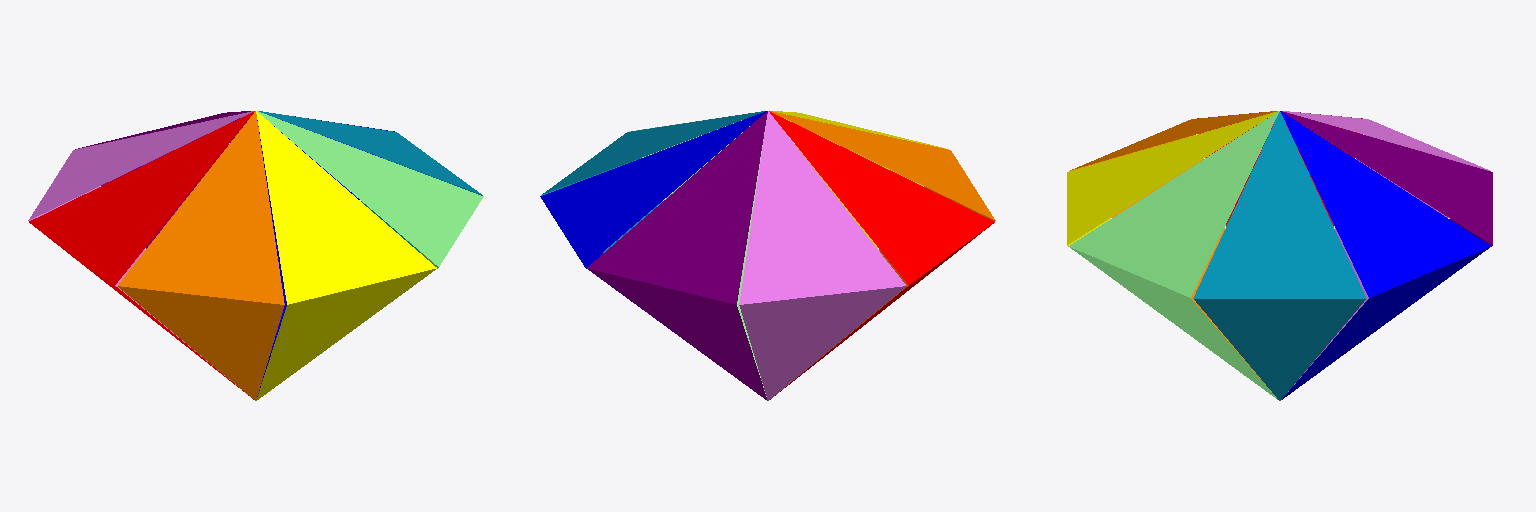
3 renders of one model, left to right at view 1: azimuth 30°, elevation 25°; view 2: azimuth 150°, elevation 25°; view 3: azimuth 270°, elevation 25°, orthographic.
Visible parts, largest first — view 1: Circle.012, Circle.009, Circle.010, Circle.011, Circle.008, Circle.002, Circle.013, Circle.016, Circle.005; view 2: Circle.013, Circle.014, Circle.010, Circle.015, Circle.007, Circle.001, Circle.012, Circle.016, Circle.005; view 3: Circle.016, Circle.011, Circle.015, Circle.003, Circle.009, Circle.014, Circle, Circle.006, Circle.012, Circle.013.
Boxes of the visible parts, <box> form: Circle.012: <box>118,111,284,304</box>; Circle.009: <box>256,111,436,304</box>; Circle.010: <box>29,111,254,284</box>; Circle.011: <box>257,111,483,266</box>; Circle.008: <box>118,286,284,400</box>; Circle.002: <box>256,269,435,400</box>; Circle.013: <box>28,111,253,220</box>; Circle.016: <box>259,111,481,194</box>; Circle.005: <box>30,223,253,399</box>; Circle.013: <box>739,111,905,304</box>; Circle.014: <box>587,111,767,304</box>; Circle.010: <box>769,111,994,284</box>; Circle.015: <box>540,111,766,266</box>; Circle.007: <box>739,286,905,400</box>; Circle.001: <box>588,269,767,400</box>; Circle.012: <box>770,111,995,220</box>; Circle.016: <box>542,111,764,194</box>; Circle.005: <box>770,223,993,399</box>; Circle.016: <box>1193,112,1366,298</box>; Circle.011: <box>1069,111,1279,297</box>; Circle.015: <box>1280,111,1490,297</box>; Circle.003: <box>1194,299,1365,400</box>; Circle.009: <box>1067,111,1277,244</box>; Circle.014: <box>1282,111,1492,244</box>; Circle: <box>1068,246,1277,399</box>; Circle.006: <box>1282,246,1491,399</box>; Circle.012: <box>1070,111,1276,170</box>; Circle.013: <box>1283,111,1489,170</box>.
Bounding box in the file's own units: 2.12 × 1.6 × 2.12.
16 materials, 8 textured.